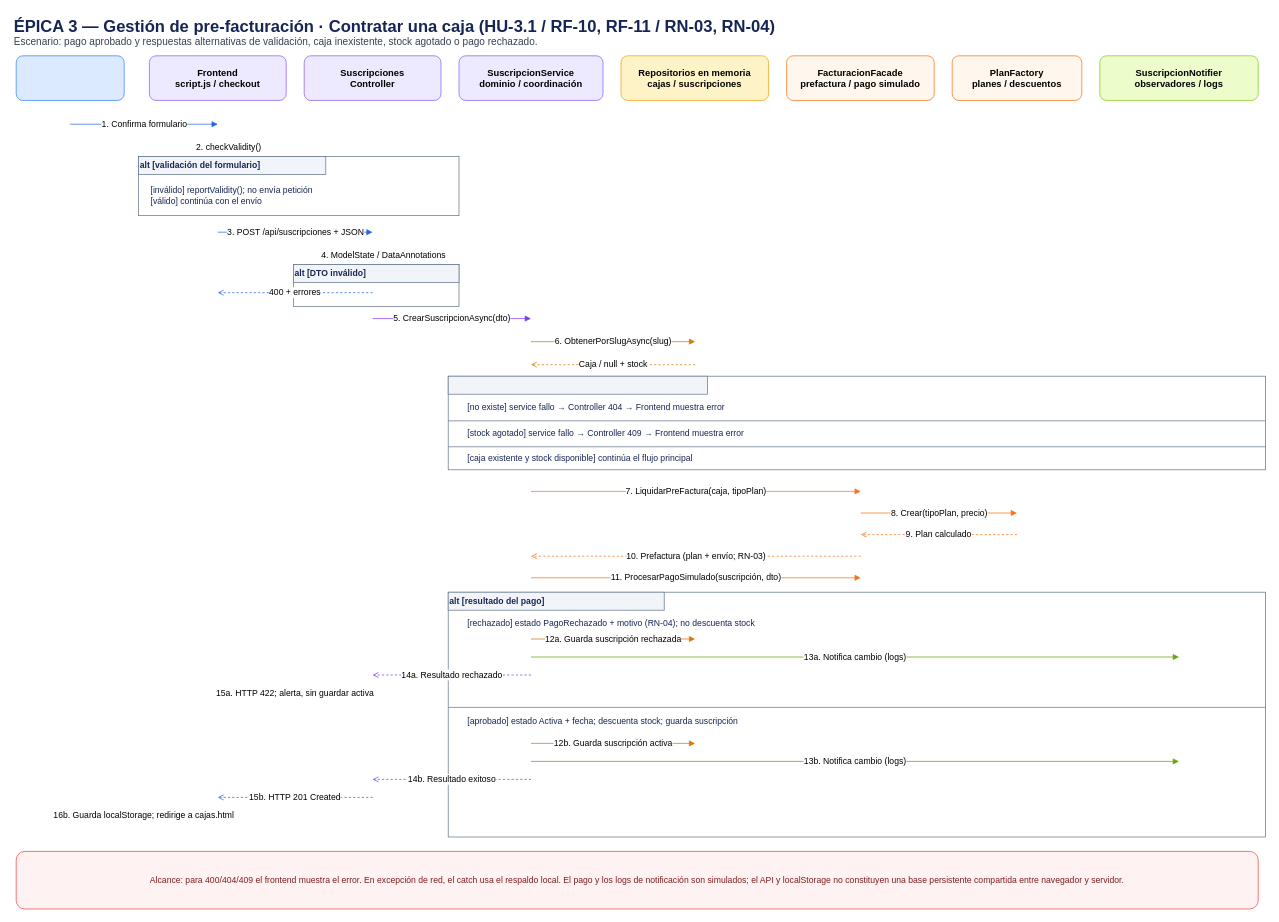
Some shapes in this 1279 by 922 pixel diagram are drawn without their labels. The centre of each missing label's shape, as x and y in pixels:
"alt [existencia y disponibilidad de la caja]" goes at (x=577, y=384).
"Usuario suscriptor" goes at (x=69, y=77).
